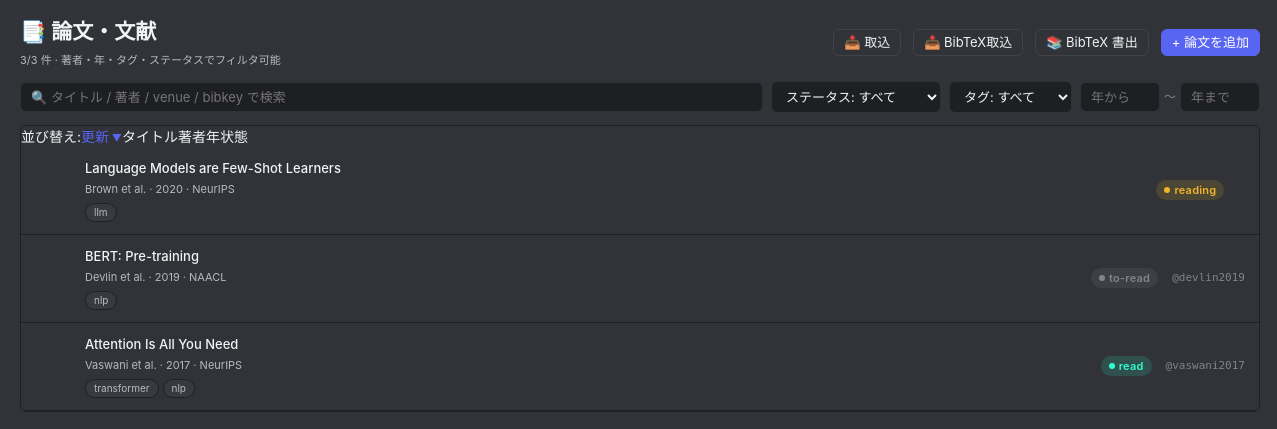
Test case: PapersView › shows context menu on right-click
The width and height of the screenshot is (1277, 429).
Right-click the text "Attention Is All You Need" at (162, 344), box [85,336,238,352]
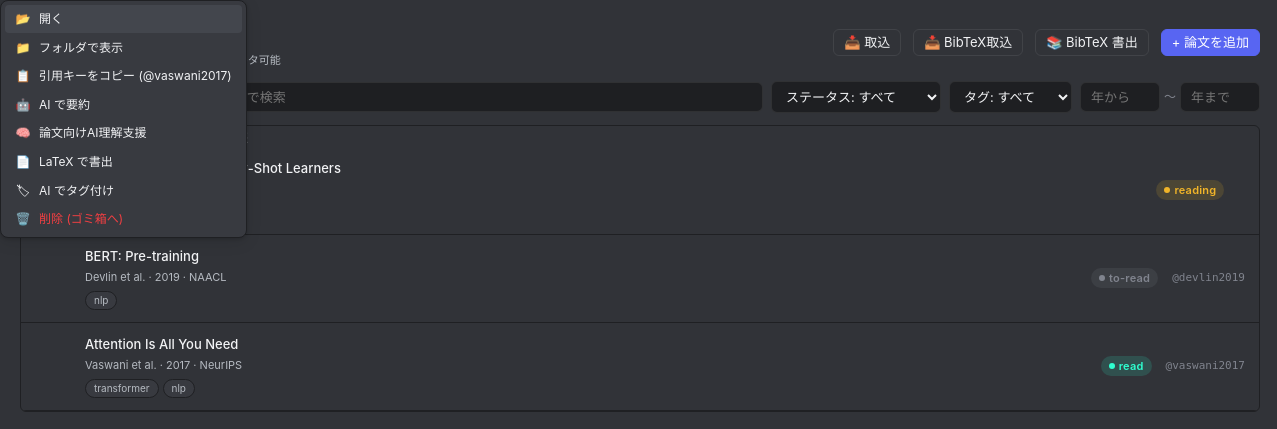
Expected: the text "開く" is shown, [39,11,63,26]
Expected: the text "削除 (ゴミ箱へ)" is shown, [39,211,123,226]
